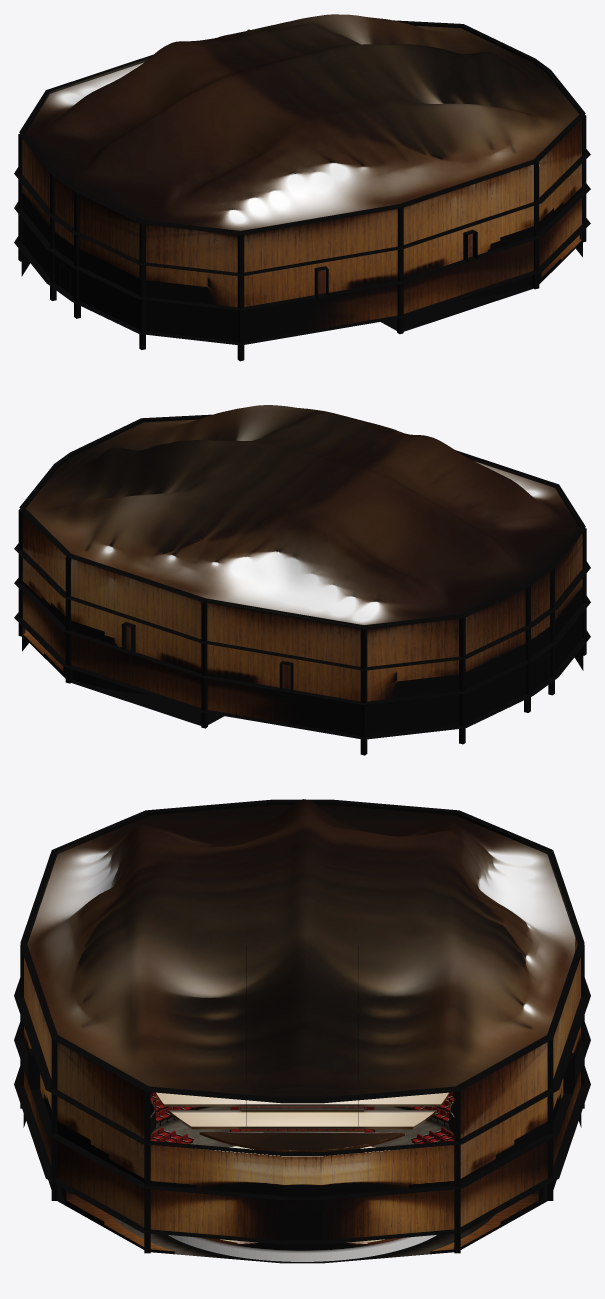
Rendered from Concert Hall VR.fbx.
The picture shows the model from 3 angles, top to bottom: view 1: azimuth 30°, elevation 25°; view 2: azimuth 150°, elevation 25°; view 3: azimuth 270°, elevation 25°; orthographic projection. The views are drawn at different scales.
Visible parts, largest first — view 1: ceiling, walls, beams, floor; view 2: ceiling, walls, beams, floor; view 3: ceiling, walls, beams, floor, seats.
Part boxes in pixels (x1=…): ceiling: x1=25, y1=14, x2=579, y2=230; walls: x1=21, y1=119, x2=582, y2=341; beams: x1=14, y1=20, x2=590, y2=361; floor: x1=22, y1=187, x2=581, y2=344; ceiling: x1=25, y1=405, x2=579, y2=624; walls: x1=22, y1=514, x2=583, y2=735; beams: x1=14, y1=414, x2=590, y2=755; floor: x1=23, y1=587, x2=582, y2=739; ceiling: x1=27, y1=799, x2=575, y2=1151; walls: x1=23, y1=938, x2=581, y2=1240; beams: x1=14, y1=799, x2=590, y2=1253; floor: x1=43, y1=1092, x2=561, y2=1263; seats: x1=150, y1=1092, x2=454, y2=1147.
Size of the model in its own units: 1809 by 742 by 1441.
